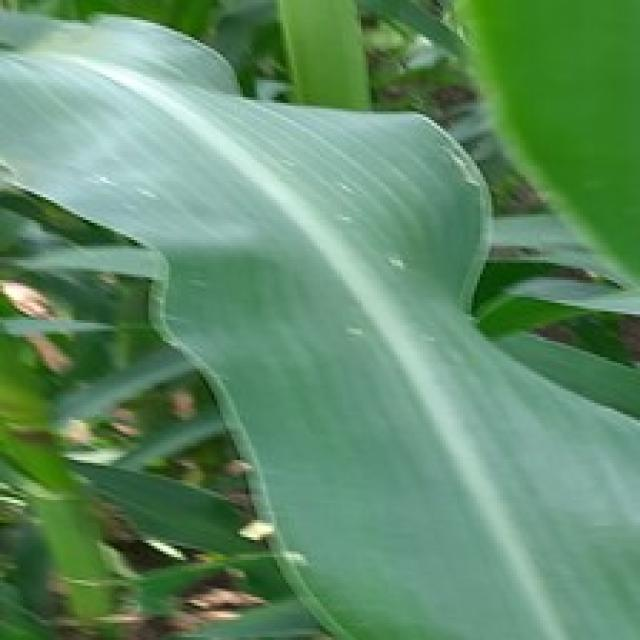Corn: (0, 0, 637, 637), (445, 0, 637, 311)
